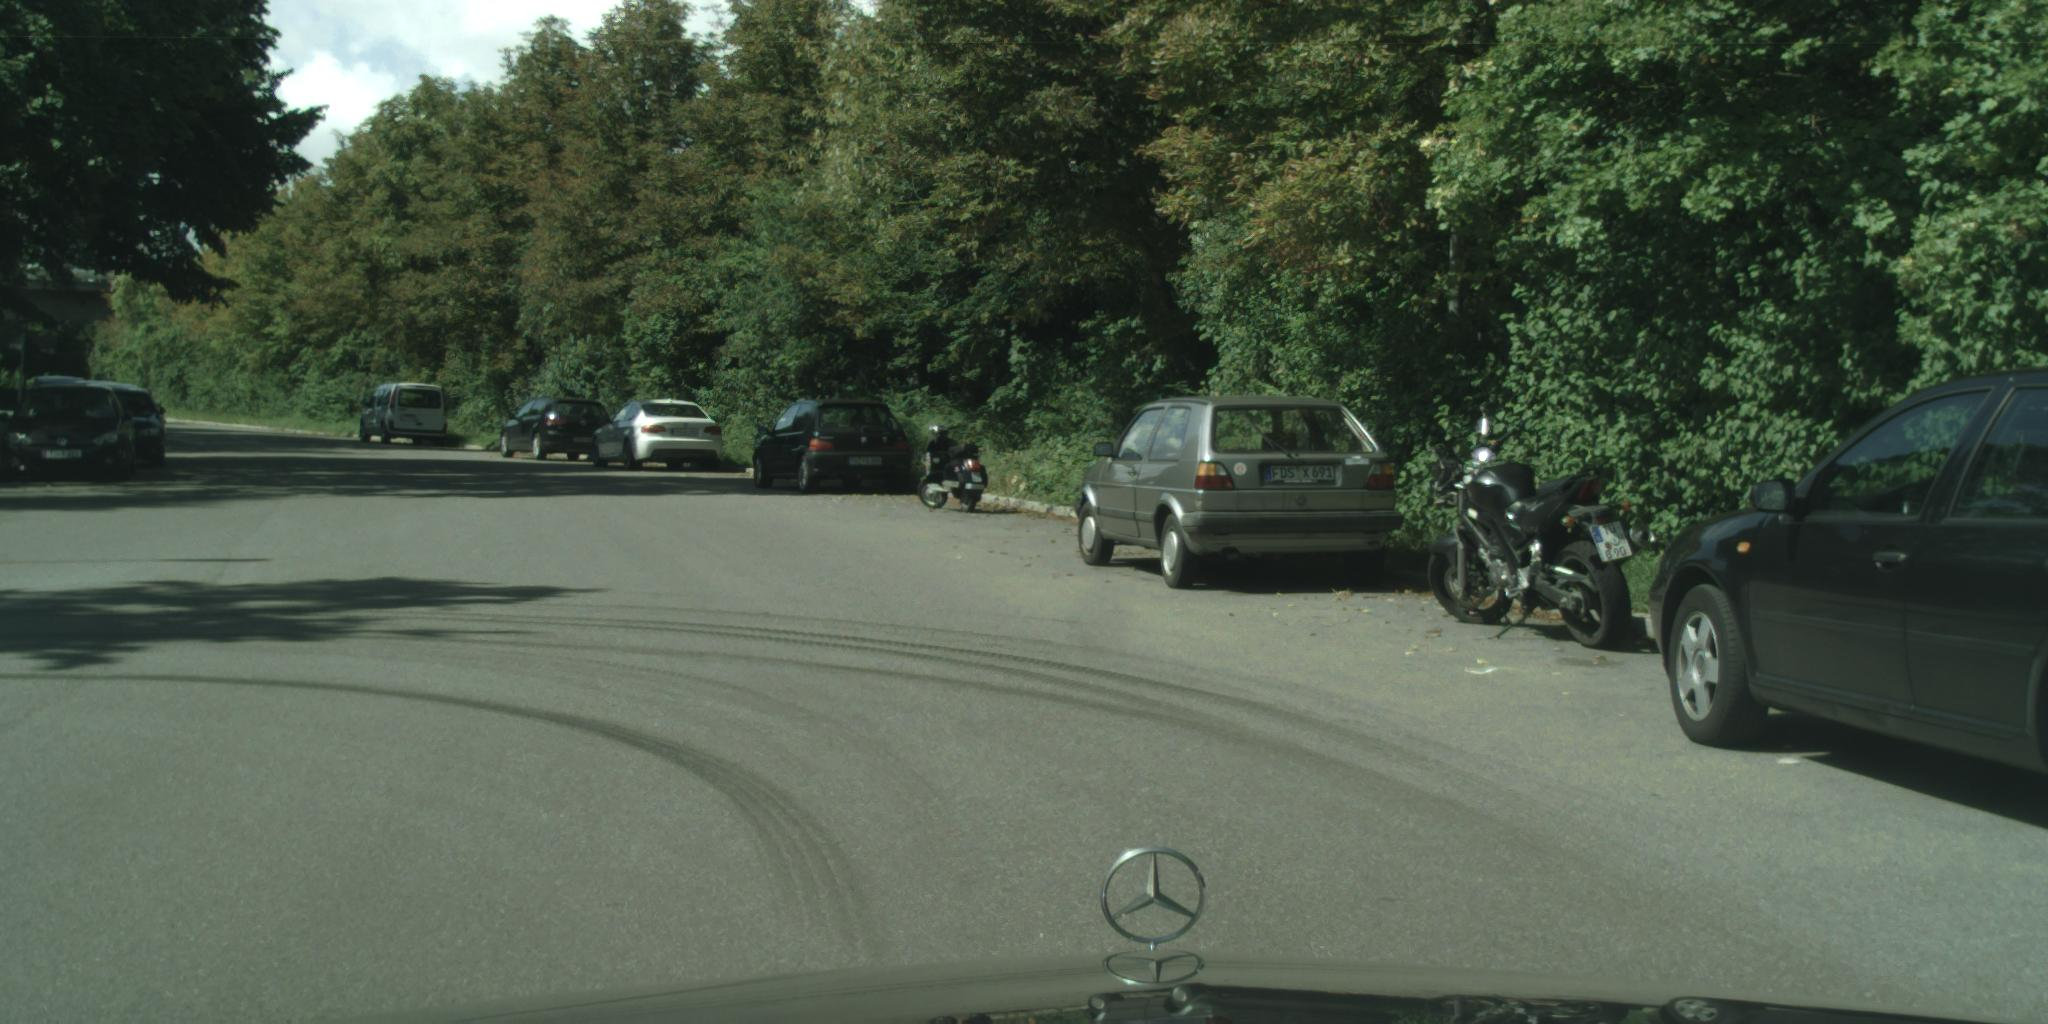car: (1650, 372, 2047, 778), (1074, 397, 1404, 590), (752, 401, 912, 495), (1, 376, 138, 483), (589, 398, 725, 472), (84, 379, 168, 468), (500, 396, 614, 461), (360, 385, 448, 448)
motorcycle: (1428, 401, 1656, 652), (916, 424, 989, 513)
